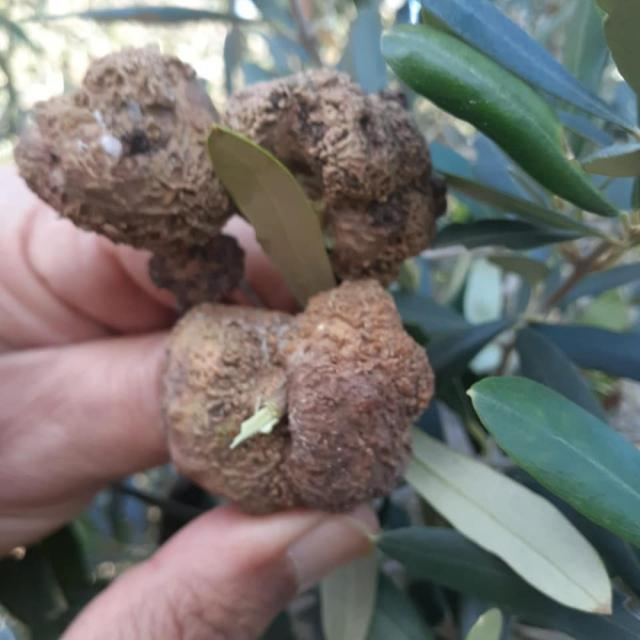Healthy: (381, 26, 611, 213), (406, 431, 611, 612), (468, 376, 639, 541), (207, 125, 334, 304)
Tuberculosis: (162, 278, 433, 514), (14, 46, 239, 269), (225, 70, 445, 284)
